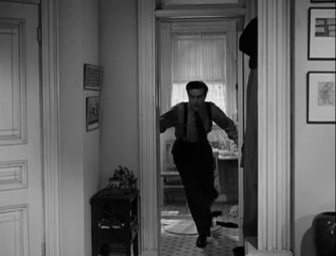face: (188, 89, 205, 110)
ls: (1, 1, 336, 256)
person: (159, 80, 239, 248)
